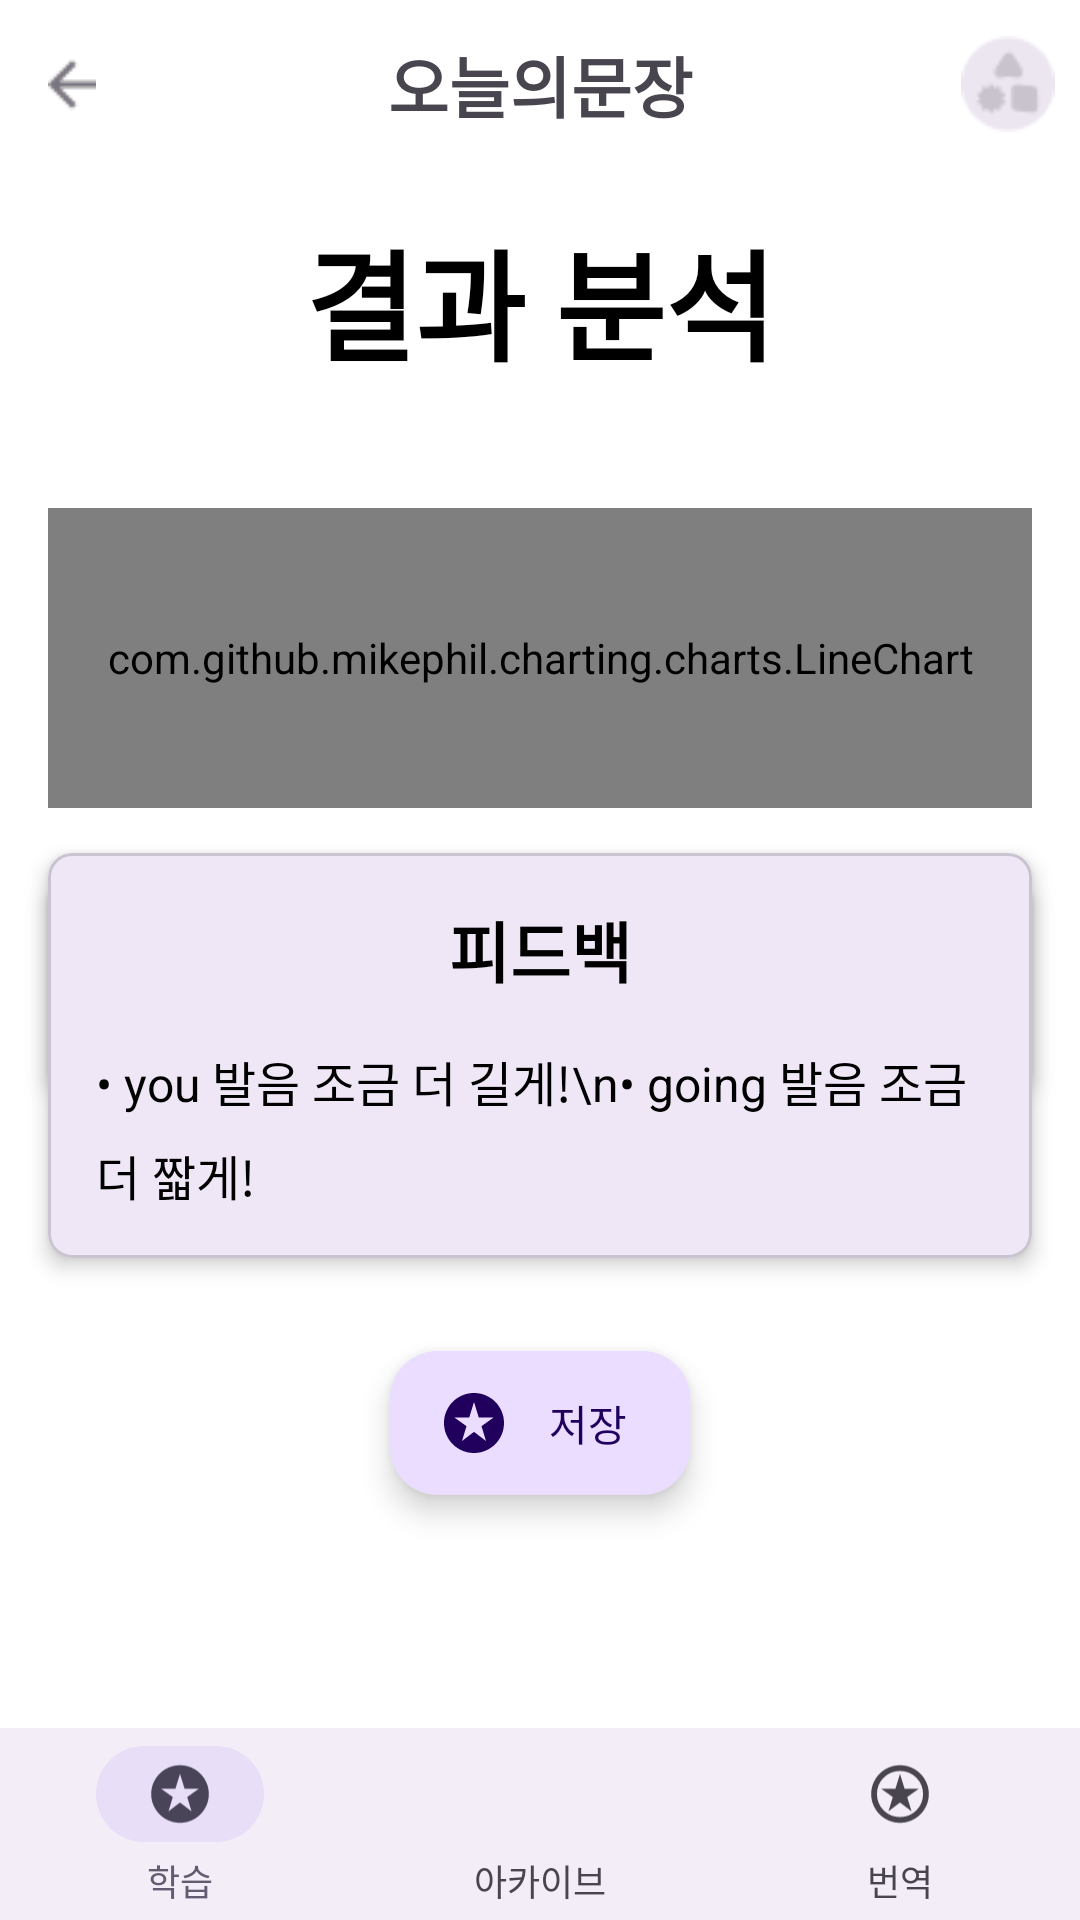

Screen size 1080w x 1920h. Icon name, then its center in pixels as point (x, y):
뒤로가기: point (72, 84)
